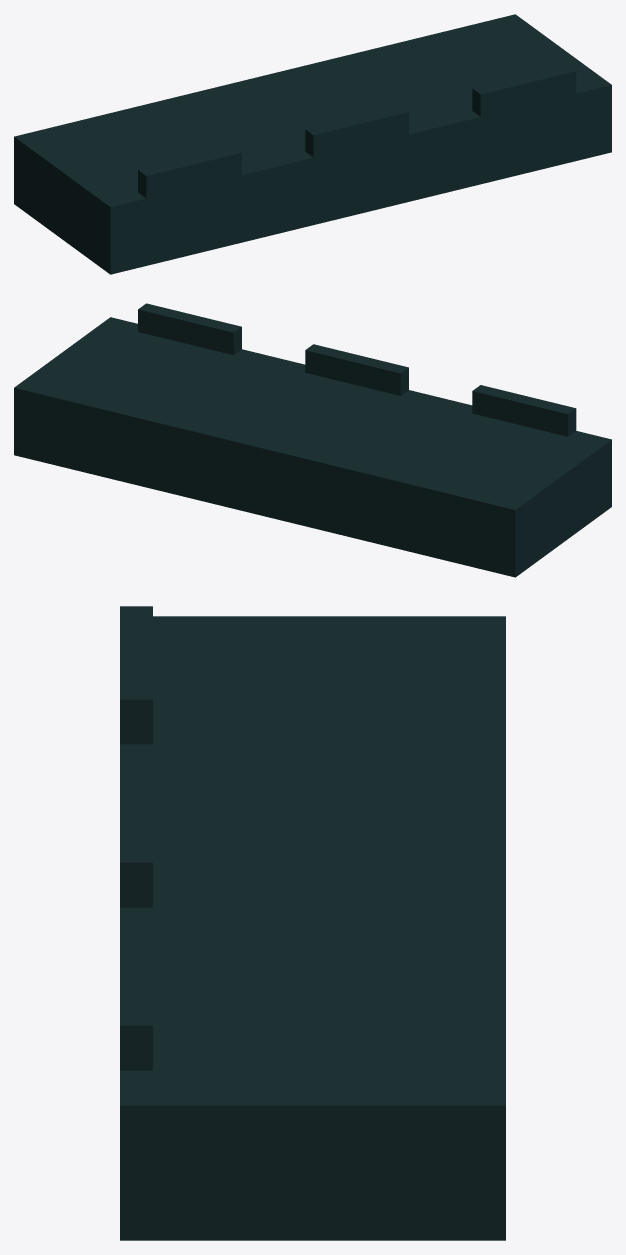
The model's file is oc_shop_row_01_collision.glb.
3 views of the same model, one above another, from view 1: azimuth 30°, elevation 25°; view 2: azimuth 150°, elevation 25°; view 3: azimuth 270°, elevation 25° (orthographic). The views are drawn at different scales.
Parts seen in each view (by area): view 1: COL_Row, COL_Pediment2, COL_Pediment0, COL_Pediment1; view 2: COL_Row, COL_Pediment0, COL_Pediment1, COL_Pediment2; view 3: COL_Row, COL_Pediment0, COL_Pediment1, COL_Pediment2.
Boxes of the visible parts, x1=… form: COL_Row: x1=14, y1=14, x2=611, y2=274; COL_Pediment2: x1=472, y1=65, x2=576, y2=116; COL_Pediment0: x1=138, y1=146, x2=241, y2=198; COL_Pediment1: x1=305, y1=106, x2=408, y2=157; COL_Row: x1=14, y1=317, x2=611, y2=577; COL_Pediment0: x1=472, y1=385, x2=576, y2=436; COL_Pediment1: x1=305, y1=344, x2=408, y2=395; COL_Pediment2: x1=138, y1=303, x2=241, y2=354; COL_Row: x1=120, y1=616, x2=505, y2=1240; COL_Pediment0: x1=120, y1=606, x2=152, y2=744; COL_Pediment1: x1=120, y1=769, x2=152, y2=907; COL_Pediment2: x1=120, y1=932, x2=152, y2=1070.
Bounding box in the file's own units: 42 × 7.2 × 14.
